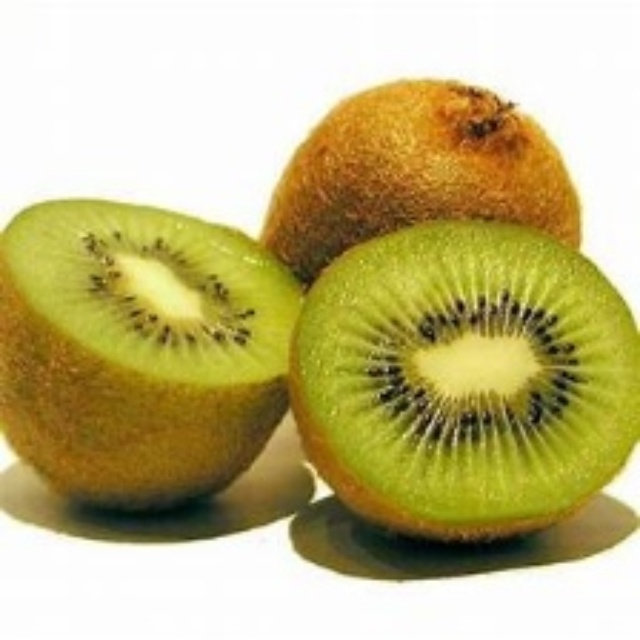kiwi: (288, 228, 639, 537), (3, 199, 313, 525), (270, 71, 589, 295)
